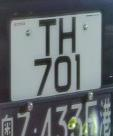0: (52, 53, 74, 96)
1: (73, 50, 86, 94)
7: (31, 55, 53, 99)
H: (56, 13, 79, 56)
T: (35, 16, 59, 57)
